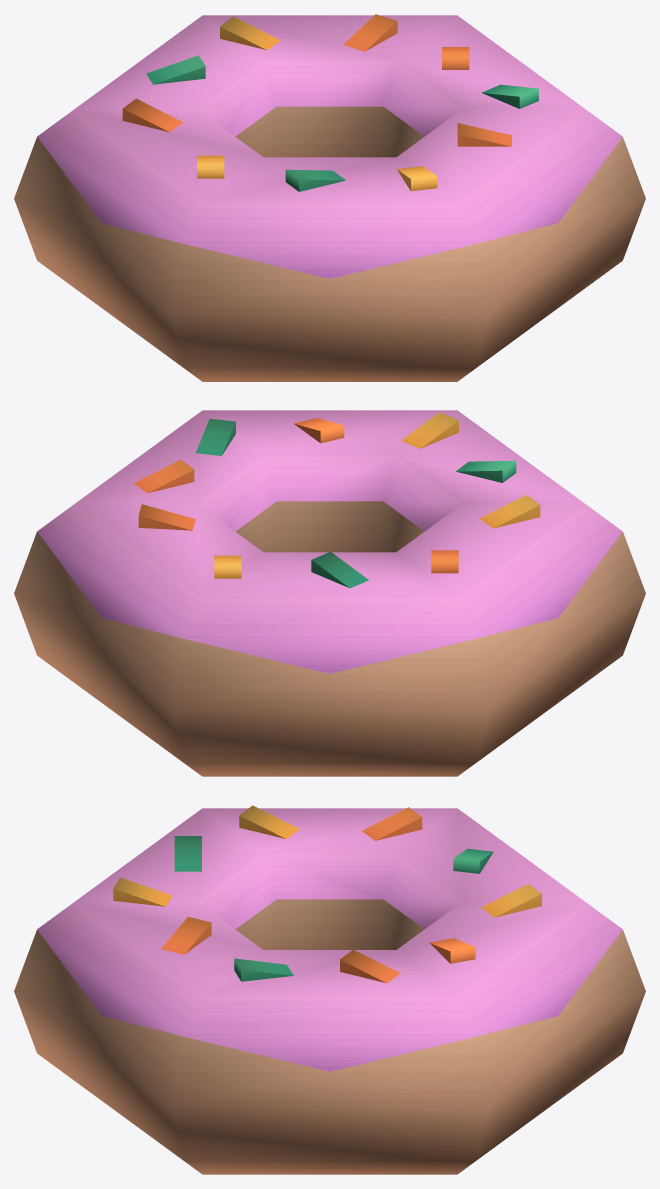
Rendered from donut_sprinkles.glb.
The picture shows the model from 3 angles, top to bottom: view 1: azimuth 30°, elevation 25°; view 2: azimuth 150°, elevation 25°; view 3: azimuth 270°, elevation 25°; orthographic projection.
Visible parts, largest first — view 1: donut-sprinkles; view 2: donut-sprinkles; view 3: donut-sprinkles.
Part boxes in pixels (bbox=[...]): donut-sprinkles: bbox=[14, 14, 645, 381]; donut-sprinkles: bbox=[14, 410, 645, 776]; donut-sprinkles: bbox=[14, 805, 645, 1174].
Bounding box in the file's own units: 0.2451 × 0.095 × 0.283.
Materials: 1 (1 with a texture image).
